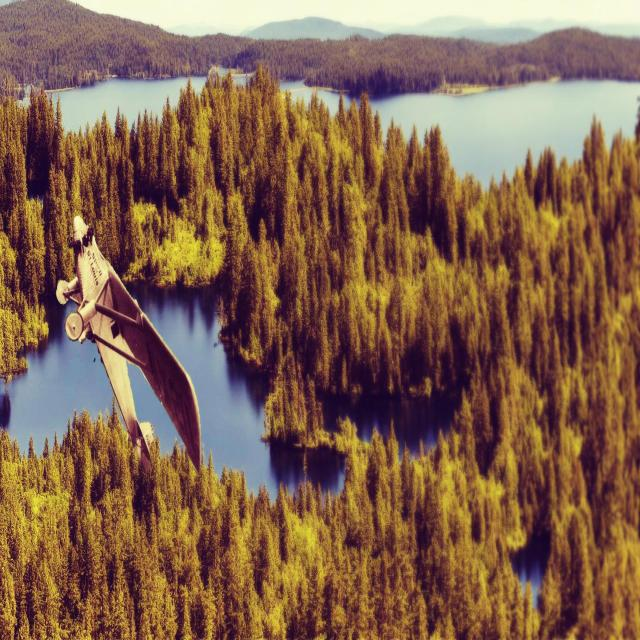airplane: (56, 214, 202, 475)
